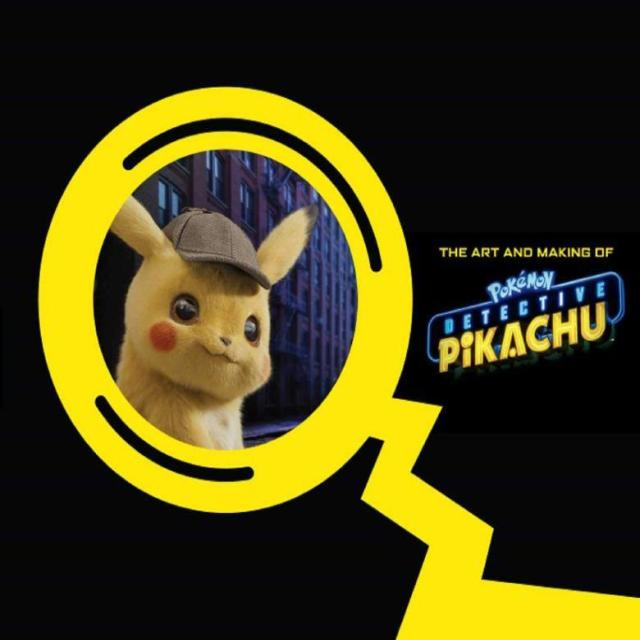pikachu: (104, 195, 324, 450)
